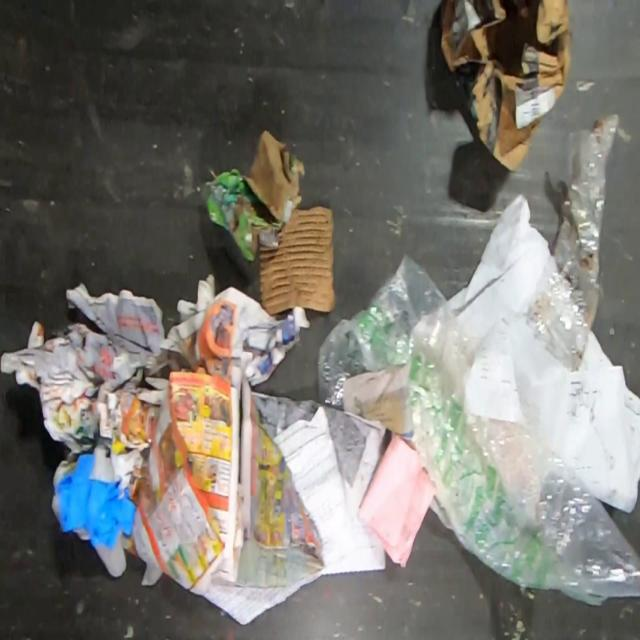cardboard: (439, 0, 574, 173), (200, 128, 307, 263), (258, 205, 336, 316)
soft_plastic: (317, 248, 640, 609), (529, 113, 619, 372)
